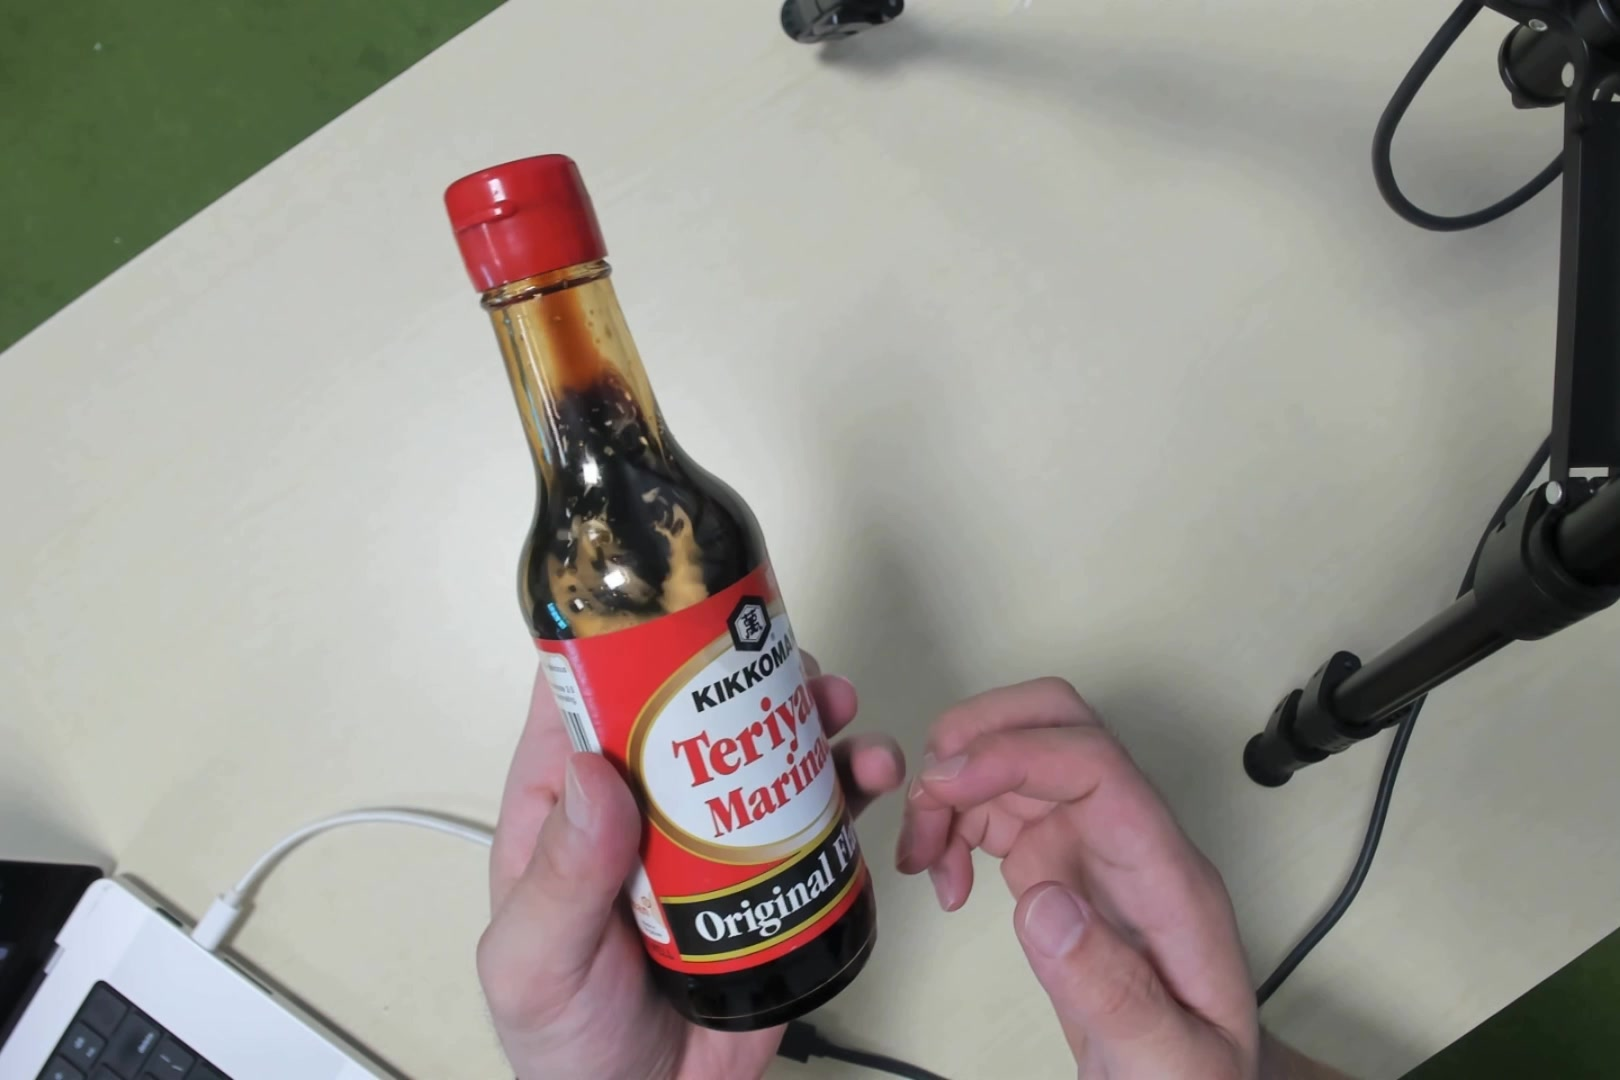OtherSauceDressingSoupbasePaste_200-299g_NonHalal_NonHealthy: (481, 188, 859, 984)
